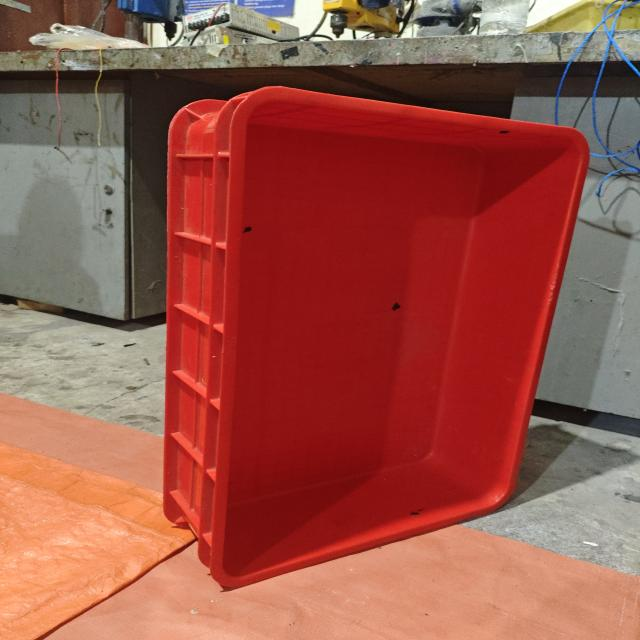red plastic box: (162, 86, 590, 588)
